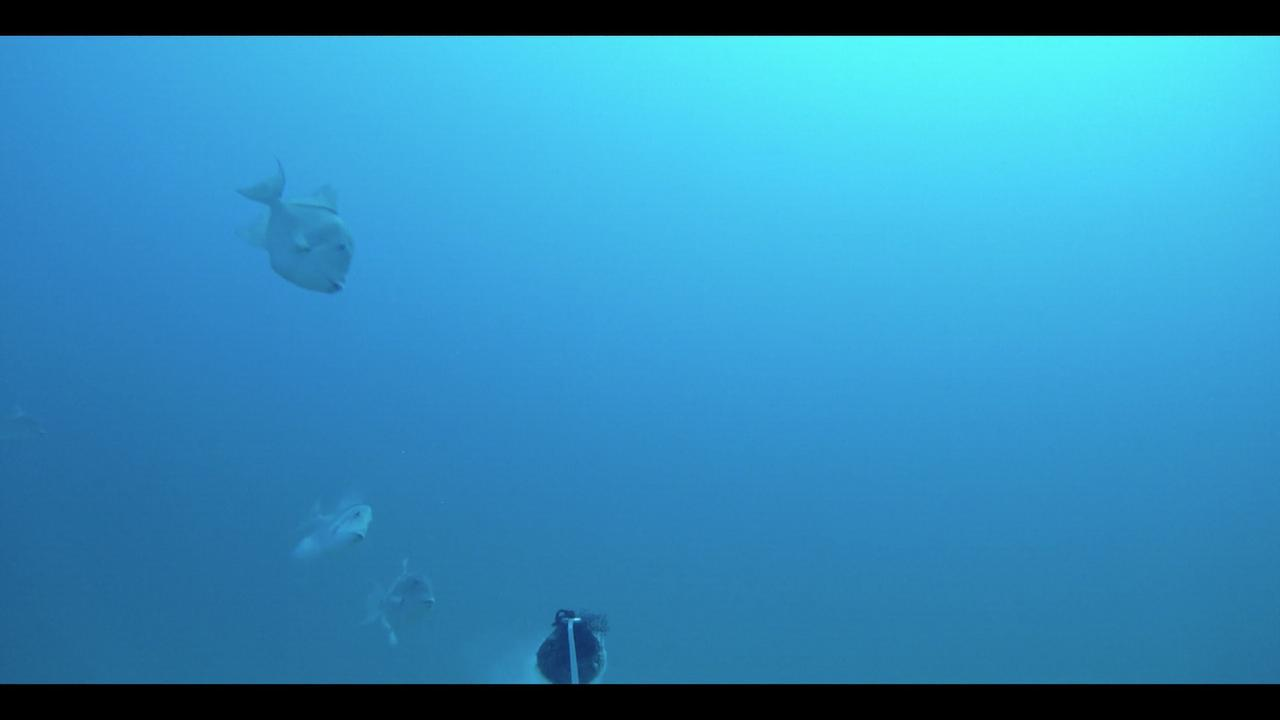balistes: (223, 155, 357, 298), (355, 558, 439, 652), (280, 485, 373, 566)
